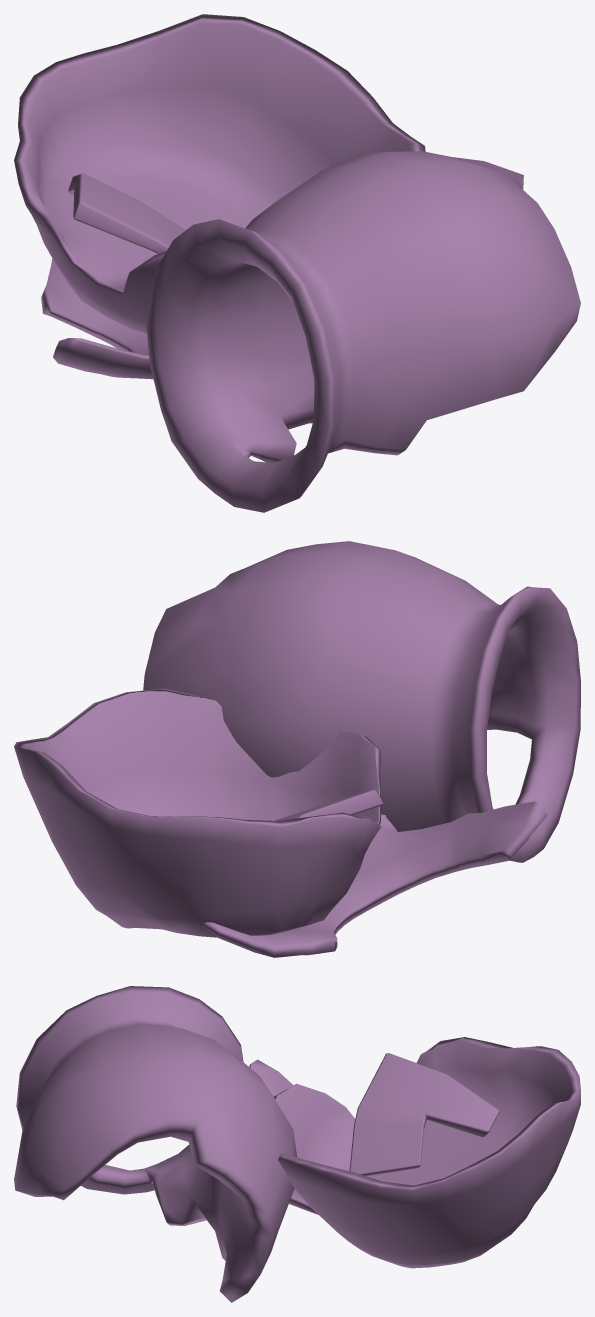
File: Jar_Bones_02B_Lod0.fbx
The picture shows the model from 3 angles, top to bottom: view 1: azimuth 30°, elevation 25°; view 2: azimuth 150°, elevation 25°; view 3: azimuth 270°, elevation 25°; orthographic projection. The views are drawn at different scales.
Parts seen in each view (by area): view 1: Jar_Bones_02B_Lod0; view 2: Jar_Bones_02B_Lod0; view 3: Jar_Bones_02B_Lod0.
Boxes of the visible parts, x1,y1,x2,y2 form: Jar_Bones_02B_Lod0: (14, 14, 580, 512); Jar_Bones_02B_Lod0: (14, 541, 580, 957); Jar_Bones_02B_Lod0: (14, 986, 580, 1302).
Size of the model in its own units: 61.74 by 39.56 by 88.06.
